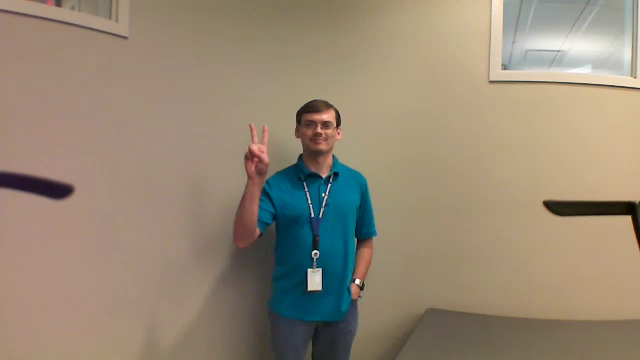peace: (237, 121, 274, 182)
